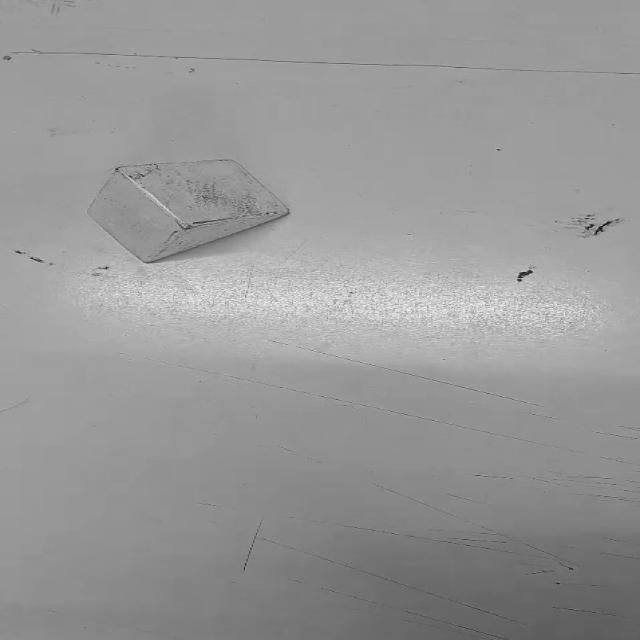ytriangle: (81, 157, 294, 264)
